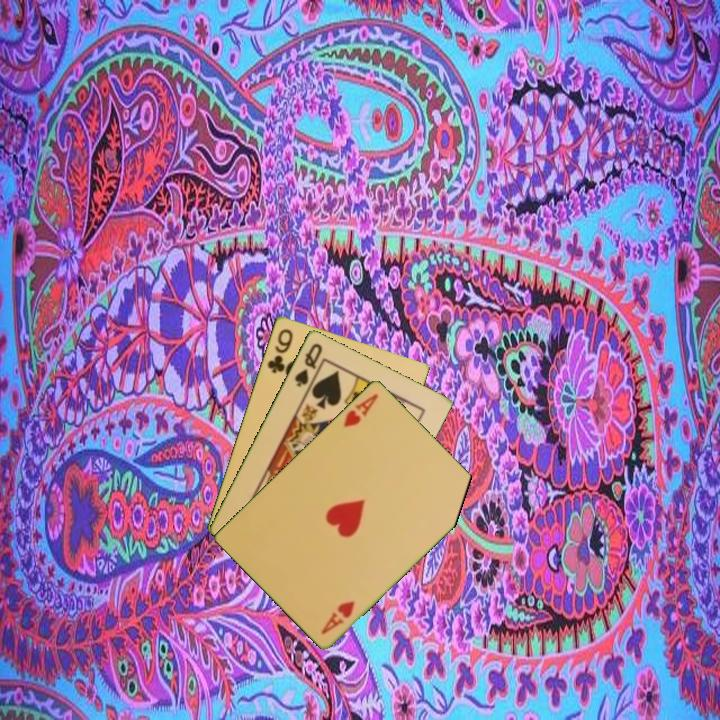9c: (264, 325, 296, 376)
Ah: (340, 390, 381, 430), (318, 597, 357, 637)
Qs: (291, 339, 325, 390)
